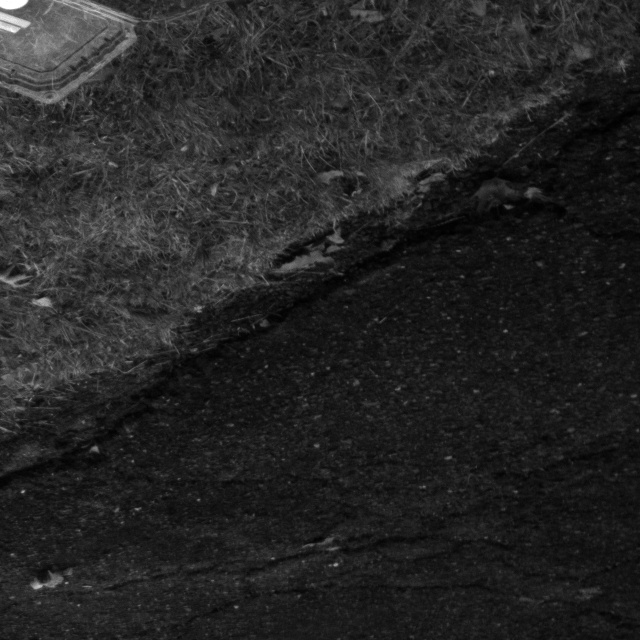container: (0, 0, 252, 112)
